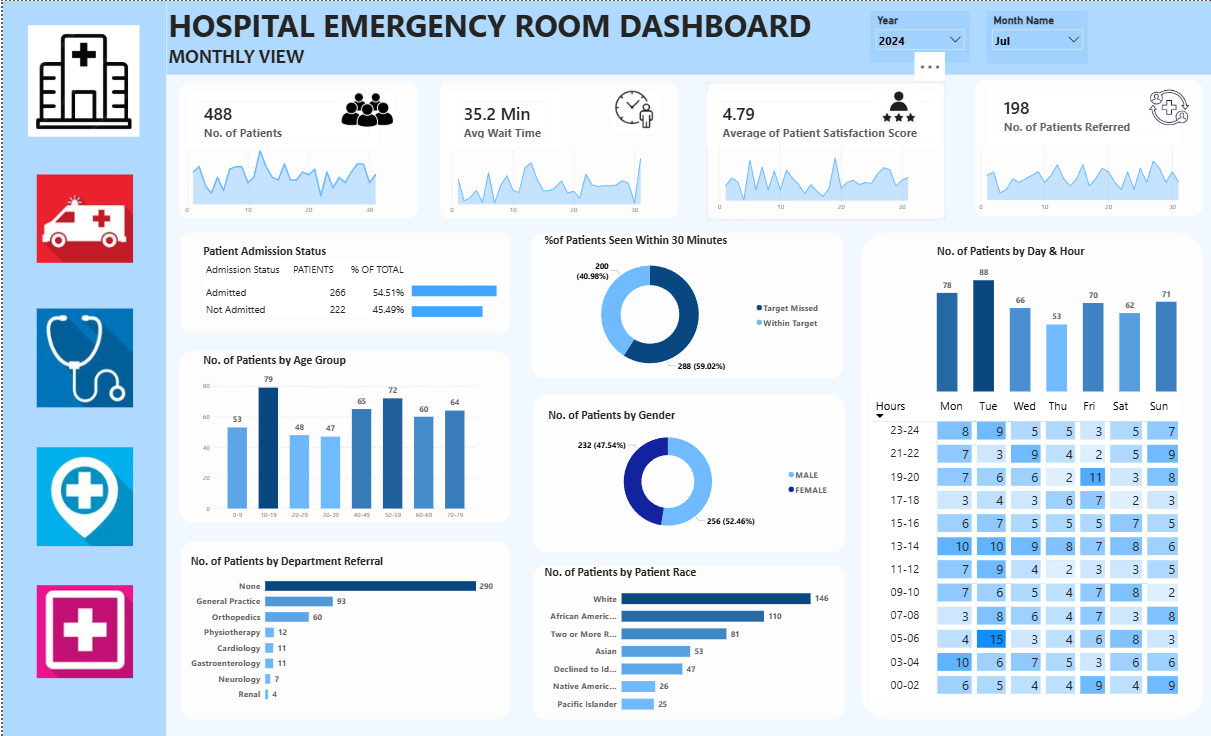

The page's visual inventory and layout, read from the dashboard file:
{"tool":"powerbi","page":{"name":"Page 1","canvas":[2300,1400],"ordinal":0},"visuals":[{"type":"shape","box":[335,155,455,260],"z":0},{"type":"shape","box":[0,0,310.7,1400.5],"z":1000},{"type":"shape","box":[310.7,0,1989.8,140],"z":2000},{"type":"textbox","box":[309.6,0,1255.5,94.3],"z":3000},{"type":"textbox","box":[309.6,77.4,300,62.9],"z":4000},{"type":"slicer","fields":{"Values":["Date Table.Year"]},"box":[1650,20,188,98],"z":5000},{"type":"slicer","fields":{"Values":["Date Table.Month Name"]},"box":[1872,20,192,100],"z":6000},{"type":"cardVisual","fields":{"Data":["Hospital ER_Data.NO. OF PATIENTS"]},"box":[351.9,173.6,361.4,107],"z":7000},{"type":"areaChart","fields":{"Y":["Hospital ER_Data.NO. OF PATIENTS"],"Category":["Date Table.Date.Variation.Date Hierarchy.Day"]},"box":[335,270,435,145],"z":8000},{"type":"shape","box":[830,155,455,260],"z":9000},{"type":"cardVisual","fields":{"Data":["Hospital ER_Data.Avg Wait Time"]},"box":[846.5,173.6,211.6,107],"z":10000},{"type":"shape","box":[338,440,626,190],"z":11000},{"type":"areaChart","fields":{"Category":["Date Table.Date.Variation.Date Hierarchy.Day"],"Y":["Avg(Hospital ER_Data.Patient Waittime)"]},"box":[840,270,435,145],"z":12000},{"type":"shape","box":[1337.5,155,455,260],"z":13000},{"type":"cardVisual","fields":{"Data":["Avg(Hospital ER_Data.Patient Satisfaction Score)"]},"box":[1338.7,173.6,444.6,107],"z":14000},{"type":"areaChart","fields":{"Category":["Date Table.Date.Variation.Date Hierarchy.Day"],"Y":["Avg(Hospital ER_Data.Patient Satisfaction Score)"]},"box":[1347.5,265,435,145],"z":15000},{"type":"pivotTable","title":"Patient Admission Status","fields":{"Rows":["Hospital ER_Data.Admission Status"],"Values":["Hospital ER_Data.NO. OF PATIENTS1","Hospital ER_Data.NO. OF PATIENTS"]},"box":[376,462,416,194],"z":16000},{"type":"shape","box":[1847.5,150,435,260],"z":17000},{"type":"cardVisual","title":"No. of Patients ","fields":{"Data":["Hospital ER_Data.No. of Patients Referred"]},"box":[1873.7,161.7,366.2,109.4],"z":18000},{"type":"areaChart","fields":{"Category":["Date Table.Date.Variation.Date Hierarchy.Day"],"Y":["Hospital ER_Data.No. of Patients Referred"]},"box":[1845,265,455,145],"z":19000},{"type":"shape","box":[1630,440,652.5,927.5],"z":20000},{"type":"barChart","fields":{"Category":["Hospital ER_Data.Admission Status"],"Y":["Hospital ER_Data.NO. OF PATIENTS"]},"box":[772,510,192,120],"z":21000},{"type":"shape","box":[335,665,630,327.5],"z":22000},{"type":"columnChart","fields":{"Category":["Hospital ER_Data.Age Group"],"Y":["Hospital ER_Data.NO. OF PATIENTS"]},"box":[375,667.5,532.5,327.5],"z":23000},{"type":"shape","box":[1007.5,750,592.5,300],"z":24000},{"type":"shape","box":[337.5,1027.5,627.5,340],"z":25000},{"type":"clusteredBarChart","fields":{"Category":["Hospital ER_Data.Department Referral"],"Y":["Hospital ER_Data.NO. OF PATIENTS"]},"box":[352.5,1050,585,295],"z":26000},{"type":"shape","box":[1005,440,592.5,277.5],"z":27000},{"type":"donutChart","title":"%of Patients Seen Within 30 Minutes","fields":{"Y":["Hospital ER_Data.NO. OF PATIENTS"],"Category":["Hospital ER_Data.Waittime Status"]},"box":[1025,440,540,285],"z":28000},{"type":"donutChart","title":"No. of Patients  by Gender","fields":{"Y":["Hospital ER_Data.NO. OF PATIENTS"],"Category":["Hospital ER_Data.Patient Gender"]},"box":[1032.5,772.5,550,255],"z":29000},{"type":"shape","box":[1007.5,1072.5,592.5,295],"z":30000},{"type":"clusteredBarChart","fields":{"Y":["Hospital ER_Data.NO. OF PATIENTS"],"Category":["Hospital ER_Data.Patient Race"]},"box":[1025,1072.5,557.5,295],"z":31000},{"type":"pivotTable","fields":{"Rows":["Hospital ER_Data.Waittime interval"],"Columns":["Date Table.DAY Name"],"Values":["Hospital ER_Data.NO. OF PATIENTS"]},"box":[1650,750,590,585],"z":32000},{"type":"columnChart","title":"No. of Patients by Day & Hour","fields":{"Y":["Hospital ER_Data.NO. OF PATIENTS"],"Category":["Date Table.DAY Name"]},"box":[1771.4,461.3,468.4,287.7],"z":33000},{"type":"image","box":[47.6,33.3,211.6,237.8],"z":34000},{"type":"image","box":[642,168.8,99.9,73.7],"z":35000},{"type":"image","box":[1150.8,168.8,99.9,80.8],"z":36000},{"type":"image","box":[1662,168.8,80.8,73.7],"z":37000},{"type":"image","box":[2175.6,156.9,83.2,92.7],"z":38000},{"type":"image","box":[64.2,302,183.1,223.5],"z":38001},{"type":"image","box":[64.2,582.5,183.1,192.6],"z":38002},{"type":"image","box":[64.2,844.1,183.1,197.4],"z":38003},{"type":"image","box":[64.2,1103.3,183.1,192.6],"z":38004}]}

Visuals, with their boxes in screenshot pixels (x1, y1, x2, y2), scaled from the page's 2300x1400 canvas onto the 1211x736 screenshot:
shape: <box>176,81,416,218</box>
shape: <box>0,0,164,735</box>
shape: <box>164,0,1210,74</box>
textbox: <box>163,0,824,50</box>
textbox: <box>163,41,321,74</box>
slicer - Date Table.Year: <box>869,11,968,62</box>
slicer - Date Table.Month Name: <box>986,11,1087,63</box>
cardVisual - Hospital ER_Data.NO. OF PATIENTS: <box>185,91,376,148</box>
areaChart - Hospital ER_Data.NO. OF PATIENTS x Date Table.Date.Variation.Date Hierarchy.Day: <box>176,142,405,218</box>
shape: <box>437,81,677,218</box>
cardVisual - Hospital ER_Data.Avg Wait Time: <box>446,91,557,148</box>
shape: <box>178,231,508,331</box>
areaChart - Date Table.Date.Variation.Date Hierarchy.Day x Avg(Hospital ER_Data.Patient Waittime): <box>442,142,671,218</box>
shape: <box>704,81,944,218</box>
cardVisual - Avg(Hospital ER_Data.Patient Satisfaction Score): <box>705,91,939,148</box>
areaChart - Date Table.Date.Variation.Date Hierarchy.Day x Avg(Hospital ER_Data.Patient Satisfaction Score): <box>709,139,939,216</box>
"Patient Admission Status" pivotTable: <box>198,243,417,345</box>
shape: <box>973,79,1202,216</box>
"No. of Patients " cardVisual: <box>987,85,1179,143</box>
areaChart - Date Table.Date.Variation.Date Hierarchy.Day x Hospital ER_Data.No. of Patients Referred: <box>971,139,1210,216</box>
shape: <box>858,231,1202,719</box>
barChart - Hospital ER_Data.Admission Status x Hospital ER_Data.NO. OF PATIENTS: <box>406,268,508,331</box>
shape: <box>176,350,508,522</box>
columnChart - Hospital ER_Data.Age Group x Hospital ER_Data.NO. OF PATIENTS: <box>197,351,478,523</box>
shape: <box>530,394,842,552</box>
shape: <box>178,540,508,719</box>
clusteredBarChart - Hospital ER_Data.Department Referral x Hospital ER_Data.NO. OF PATIENTS: <box>186,552,494,707</box>
shape: <box>529,231,841,377</box>
"%of Patients Seen Within 30 Minutes" donutChart: <box>540,231,824,381</box>
"No. of Patients  by Gender" donutChart: <box>544,406,833,540</box>
shape: <box>530,564,842,719</box>
clusteredBarChart - Hospital ER_Data.NO. OF PATIENTS x Hospital ER_Data.Patient Race: <box>540,564,833,719</box>
pivotTable - Hospital ER_Data.Waittime interval x Date Table.DAY Name: <box>869,394,1179,702</box>
"No. of Patients by Day & Hour" columnChart: <box>933,243,1179,394</box>
image: <box>25,18,136,143</box>
image: <box>338,89,391,127</box>
image: <box>606,89,659,131</box>
image: <box>875,89,918,127</box>
image: <box>1146,82,1189,131</box>
image: <box>34,159,130,276</box>
image: <box>34,306,130,407</box>
image: <box>34,444,130,548</box>
image: <box>34,580,130,681</box>
